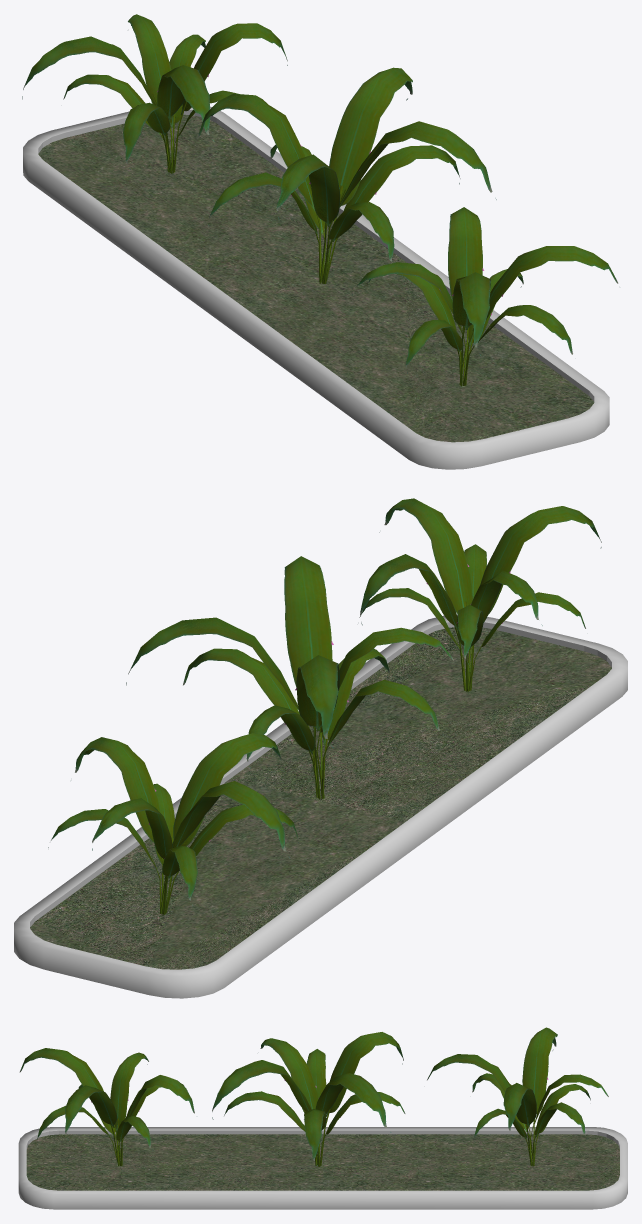
Rendered from Garden-05e.fbx.
The picture shows the model from 3 angles, top to bottom: view 1: azimuth 30°, elevation 25°; view 2: azimuth 150°, elevation 25°; view 3: azimuth 270°, elevation 25°; orthographic projection. The views are drawn at different scales.
Parts seen in each view (by area): view 1: Garden-05e; view 2: Garden-05e; view 3: Garden-05e.
Boxes of the visible parts, x1,y1,x2,y2 form: Garden-05e: (22,14,618,469); Garden-05e: (14,498,627,998); Garden-05e: (18,1027,627,1209).
Size of what is drawn, in the model's own units: 2.14 by 1.39 by 5.67.
